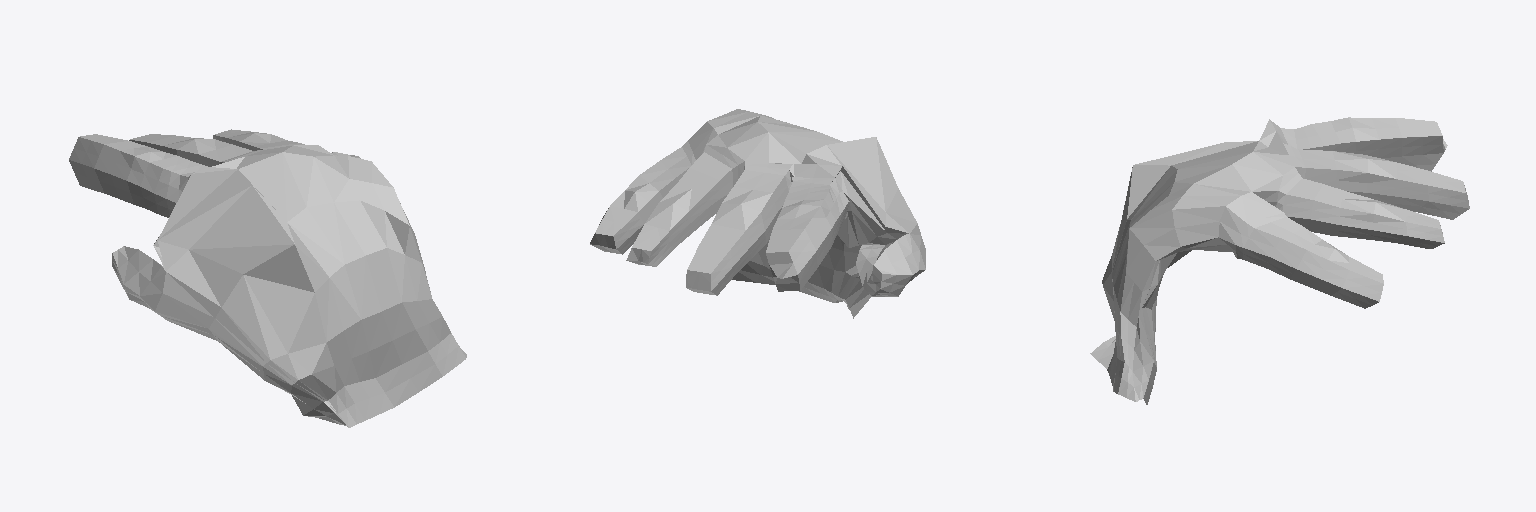
File: flexion0043.obj
The picture shows the model from 3 angles: view 1: azimuth 30°, elevation 25°; view 2: azimuth 150°, elevation 25°; view 3: azimuth 270°, elevation 25°; orthographic projection.
Parts seen in each view (by area): view 1: Hand; view 2: Hand; view 3: Hand.
Boxes of the visible parts, <box> form: Hand: <box>69,129,466,427</box>; Hand: <box>590,109,925,318</box>; Hand: <box>1090,117,1469,404</box>.
Size of the model in its own units: 3.27 by 2.49 by 3.88.